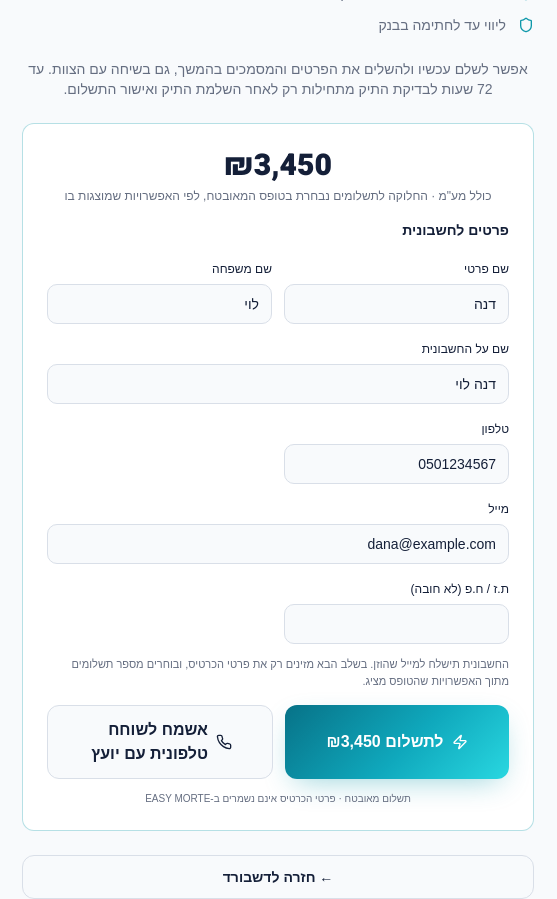
Test case: embedded payment (#44) › a declined return shows the failure inline with a retry
(page scrolled)
Expected: the field labelled "שם על החשבונית" holds "דנה לוי", top-left (47, 364), bottom-right (509, 404)
Click the button "לתשלום ₪3,450" at (397, 742), box top-left (285, 705), bottom-right (509, 779)
(page scrolled)
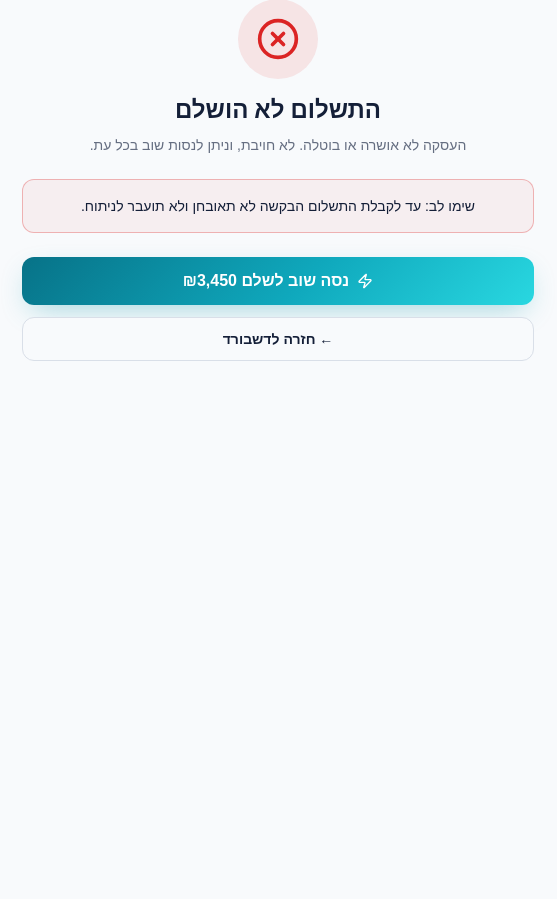
Result: the heading "התשלום לא הושלם" is shown at top-left (175, 93), bottom-right (381, 128)
Result: the button "נסה שוב לשלם ₪3,450" is shown at top-left (22, 257), bottom-right (534, 305)
